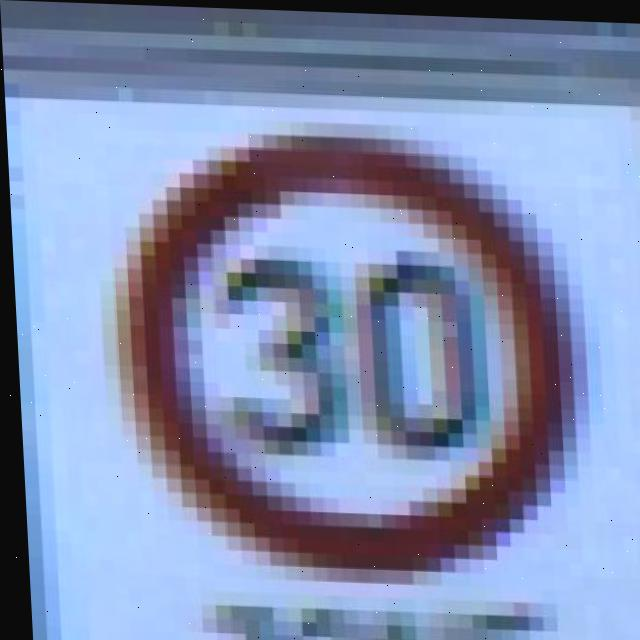Speed limit 30: (105, 119, 582, 580)
